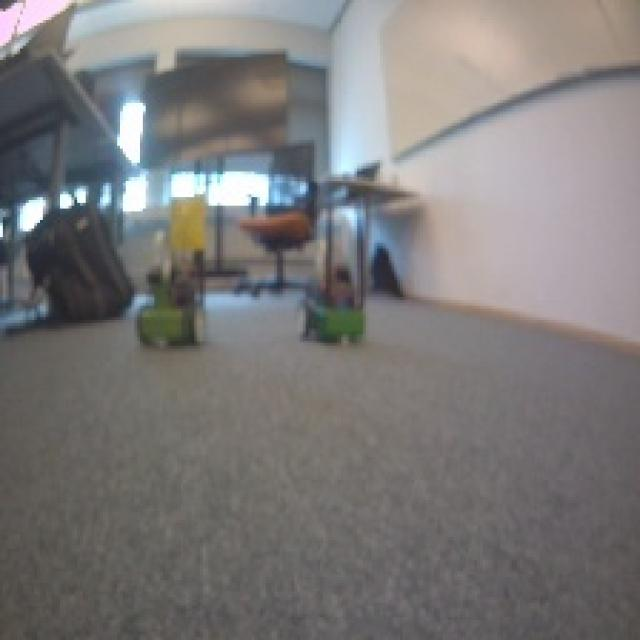robot: (135, 272, 209, 348), (293, 278, 371, 346)
